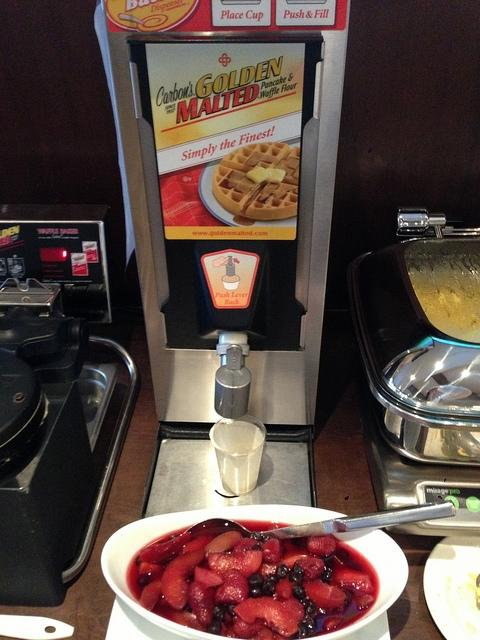blueberry: (298, 600, 316, 616), (246, 572, 264, 588), (260, 580, 276, 598), (302, 614, 316, 634), (206, 618, 222, 635), (292, 622, 308, 639), (292, 584, 307, 600), (213, 604, 226, 622), (226, 603, 241, 617), (335, 549, 350, 562), (321, 568, 334, 582), (322, 555, 334, 570), (288, 572, 302, 584), (137, 574, 150, 586), (276, 567, 286, 579), (164, 556, 178, 564), (168, 534, 177, 541), (223, 548, 232, 555)
strawberry: (233, 598, 304, 636), (140, 532, 190, 564), (187, 581, 215, 627), (214, 568, 249, 604), (329, 568, 375, 593), (302, 582, 345, 608), (204, 531, 243, 558), (233, 614, 268, 638), (296, 556, 324, 582), (230, 550, 262, 572), (194, 566, 224, 589), (306, 534, 336, 556), (262, 538, 281, 562), (275, 579, 293, 600)
